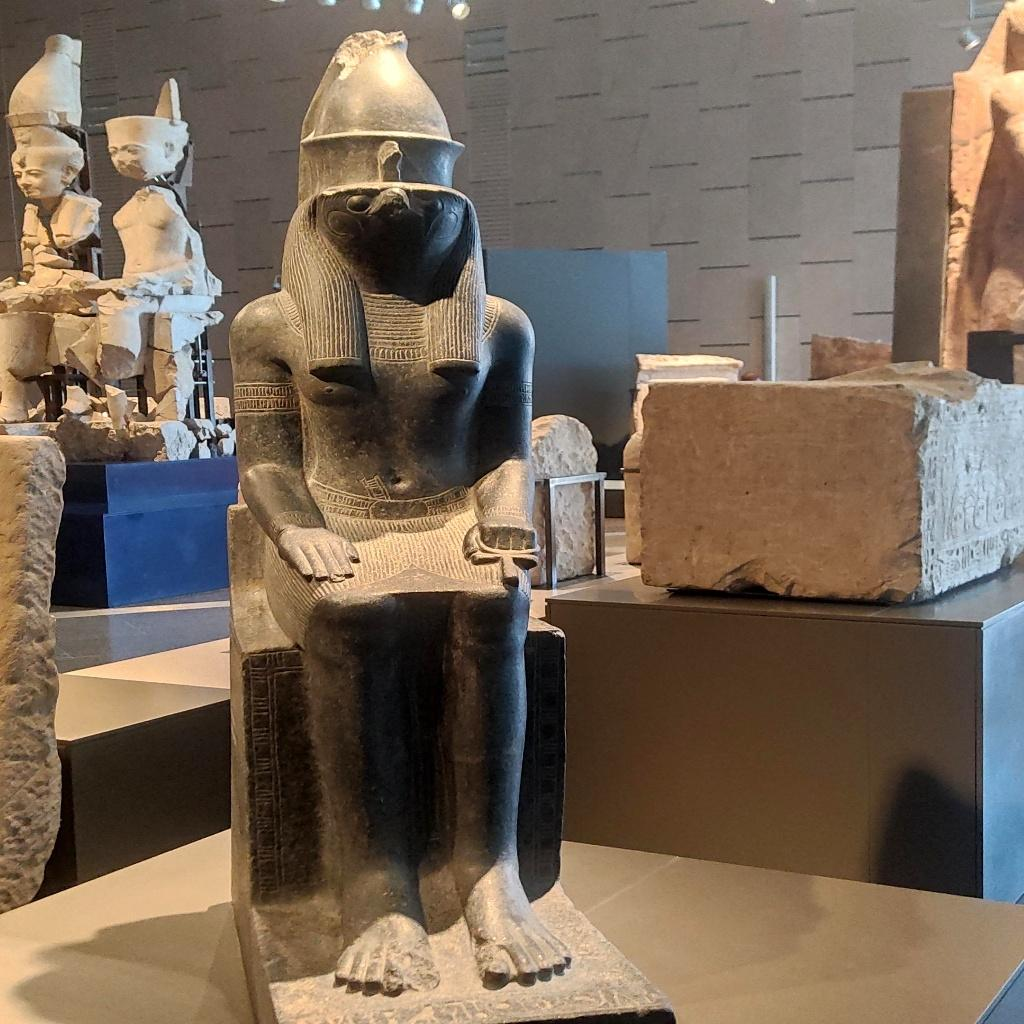Statue of God Ra-Horakhty: (221, 26, 579, 998)
